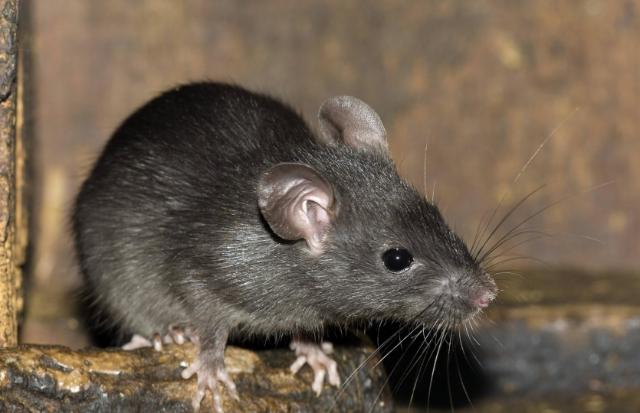rat: (54, 66, 508, 413)
